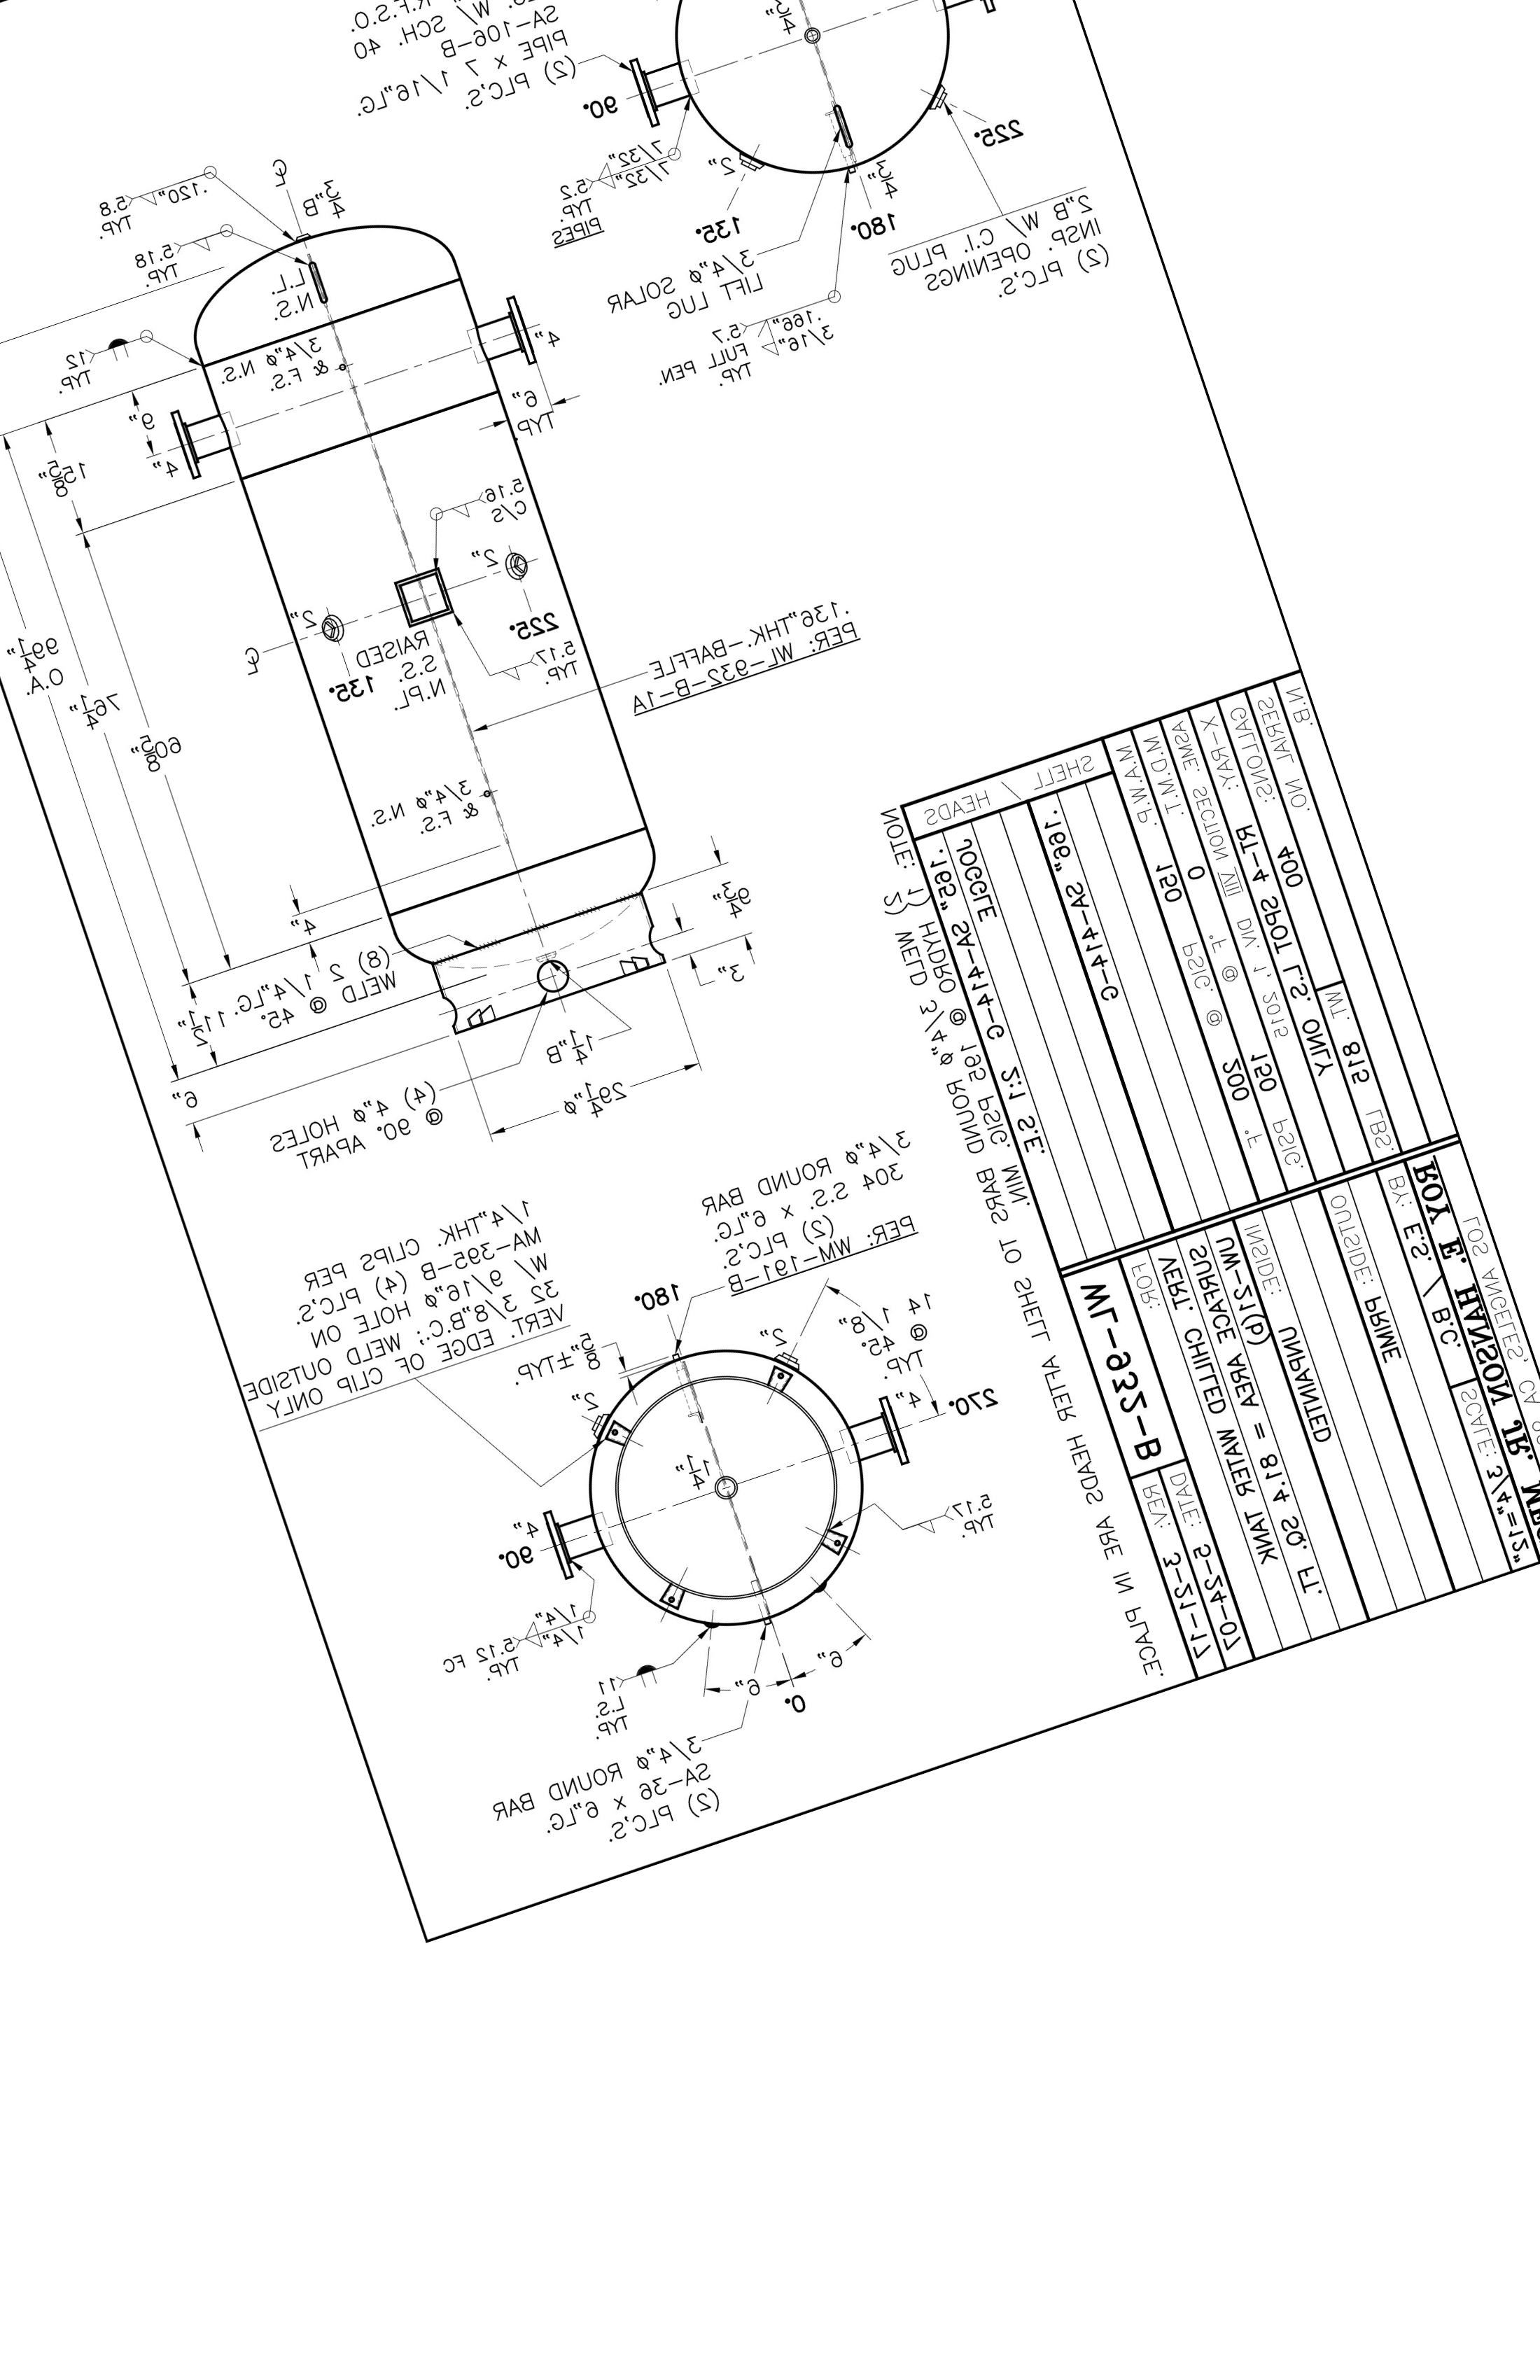Nozzle: (125, 376, 262, 501), (834, 1395, 954, 1514), (498, 1502, 650, 1594), (454, 300, 586, 397), (586, 49, 727, 137)
